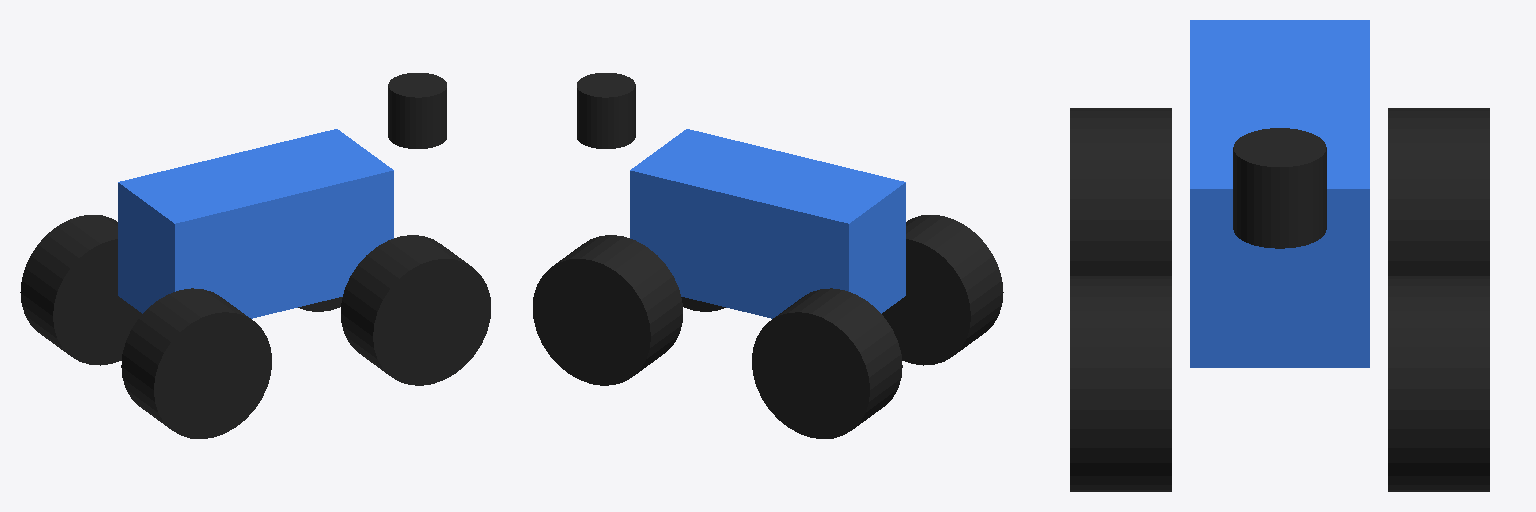
robot.urdf — racecar:
<?xml version="1.0" ?>
<!-- =================================================================================== -->
<!-- |    This document was autogenerated by xacro from rc-car-model.xacro             | -->
<!-- |    EDITING THIS FILE BY HAND IS NOT RECOMMENDED                                 | -->
<!-- =================================================================================== -->
<!-- A simple model of the racecar for rviz -->
<robot name="racecar" xmlns:xacro="http://www.ros.org/wiki/xacro">
  <material name="black">
    <color rgba="0.2 0.2 0.2 1."/>
  </material>
  <material name="blue">
    <color rgba="0.3 0.57 1. 1."/>
  </material>
  <link name="base_link">
    <visual>
      <origin xyz="0.111 0 0.125"/>
      <geometry>
        <box size="0.222 0.1 0.11"/>
      </geometry>
      <material name="blue"/>
    </visual>
  </link>
  <joint name="base_to_laser_model" type="fixed">
    <parent link="base_link"/>
    <child link="laser_model"/>
    <origin xyz="0.275 0 0.205"/>
  </joint>
  <link name="laser_model">
    <visual>
      <geometry>
        <cylinder length="0.05" radius="0.026"/>
      </geometry>
      <material name="black"/>
    </visual>
  </link>
  <joint name="base_to_back_left_wheel" type="fixed">
    <parent link="base_link"/>
    <child link="back_left_wheel"/>
    <origin xyz="0 0.0885 0.06"/>
  </joint>
  <link name="back_left_wheel">
    <visual>
      <geometry>
        <cylinder length="0.057" radius="0.06"/>
      </geometry>
      <material name="black"/>
      <origin rpy="1.57079632679 0 0"/>
    </visual>
  </link>
  <joint name="base_to_back_right_wheel" type="fixed">
    <parent link="base_link"/>
    <child link="back_right_wheel"/>
    <origin xyz="0 -0.0885 0.06"/>
  </joint>
  <link name="back_right_wheel">
    <visual>
      <geometry>
        <cylinder length="0.057" radius="0.06"/>
      </geometry>
      <material name="black"/>
      <origin rpy="1.57079632679 0 0"/>
    </visual>
  </link>
  <joint name="base_to_front_left_hinge" type="fixed">
    <parent link="base_link"/>
    <child link="front_left_hinge"/>
    <origin xyz="0.222 0.0885 0.06"/>
  </joint>
  <link name="front_left_hinge"/>
  <joint name="front_left_hinge_to_wheel" type="continuous">
    <parent link="front_left_hinge"/>
    <child link="front_left_wheel"/>
  </joint>
  <link name="front_left_wheel">
    <visual>
      <geometry>
        <cylinder length="0.057" radius="0.06"/>
      </geometry>
      <material name="black"/>
      <origin rpy="1.57079632679 0 0"/>
    </visual>
  </link>
  <joint name="base_to_front_right_hinge" type="fixed">
    <parent link="base_link"/>
    <child link="front_right_hinge"/>
    <origin xyz="0.222 -0.0885 0.06"/>
  </joint>
  <link name="front_right_hinge"/>
  <joint name="front_right_hinge_to_wheel" type="continuous">
    <parent link="front_right_hinge"/>
    <child link="front_right_wheel"/>
  </joint>
  <link name="front_right_wheel">
    <visual>
      <geometry>
        <cylinder length="0.057" radius="0.06"/>
      </geometry>
      <material name="black"/>
      <origin rpy="1.57079632679 0 0"/>
    </visual>
  </link>
</robot>

--- Render facts (derived) ---
3 views of the same robot in one strip: view 1: azimuth 30°, elevation 25°; view 2: azimuth 150°, elevation 25°; view 3: azimuth 270°, elevation 25° (orthographic).
Model racecar with 8 links and 7 joints (2 continuous, 5 fixed), rooted at base_link, posed every joint at zero.
Visible links, largest first — view 1: base_link, back_right_wheel, front_right_wheel, back_left_wheel, laser_model; view 2: base_link, back_left_wheel, front_left_wheel, back_right_wheel, laser_model; view 3: base_link, front_left_wheel, front_right_wheel, back_left_wheel, back_right_wheel, laser_model.
Link boxes in pixels (left/top/right/bottom): base_link: left=118, top=129, right=393, bottom=318; back_right_wheel: left=121, top=288, right=271, bottom=438; front_right_wheel: left=341, top=235, right=490, bottom=385; back_left_wheel: left=20, top=215, right=141, bottom=365; laser_model: left=388, top=73, right=446, bottom=148; base_link: left=630, top=129, right=905, bottom=318; back_left_wheel: left=752, top=288, right=902, bottom=438; front_left_wheel: left=533, top=235, right=682, bottom=385; back_right_wheel: left=882, top=215, right=1003, bottom=365; laser_model: left=577, top=73, right=635, bottom=148; base_link: left=1190, top=20, right=1369, bottom=367; front_left_wheel: left=1388, top=276, right=1489, bottom=491; front_right_wheel: left=1070, top=276, right=1171, bottom=491; back_left_wheel: left=1388, top=108, right=1489, bottom=275; back_right_wheel: left=1070, top=108, right=1171, bottom=275; laser_model: left=1233, top=128, right=1326, bottom=248.
Size in the robot's own frame: 0.361 by 0.234 by 0.23 metres.
Geometry: primitives only (box / cylinder / sphere), no mesh files.